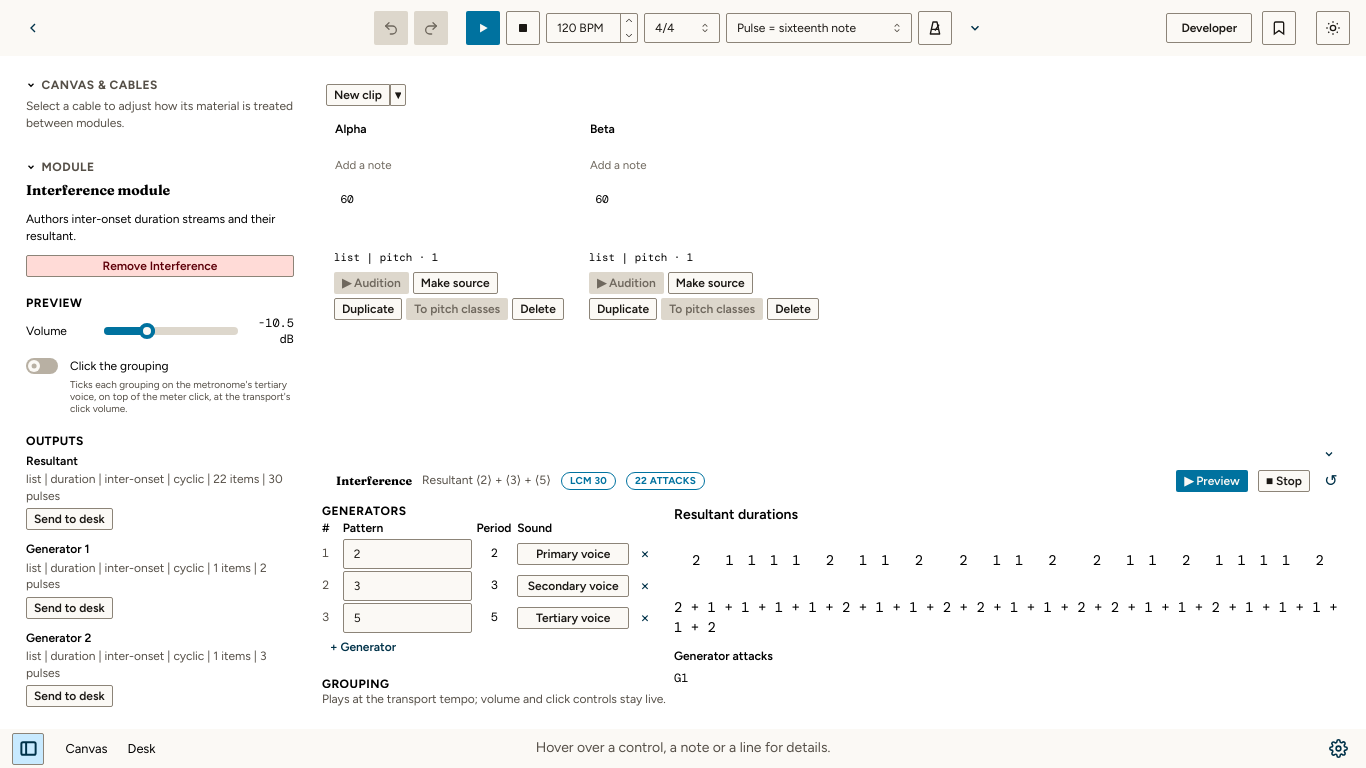
the bottom panel targets a module or a clip › shows a blank panel when the targeted clip is deleted, and promotes no module
Double-click the 1st text "list | pitch · 1" at (386, 257), box [334,250,438,264]
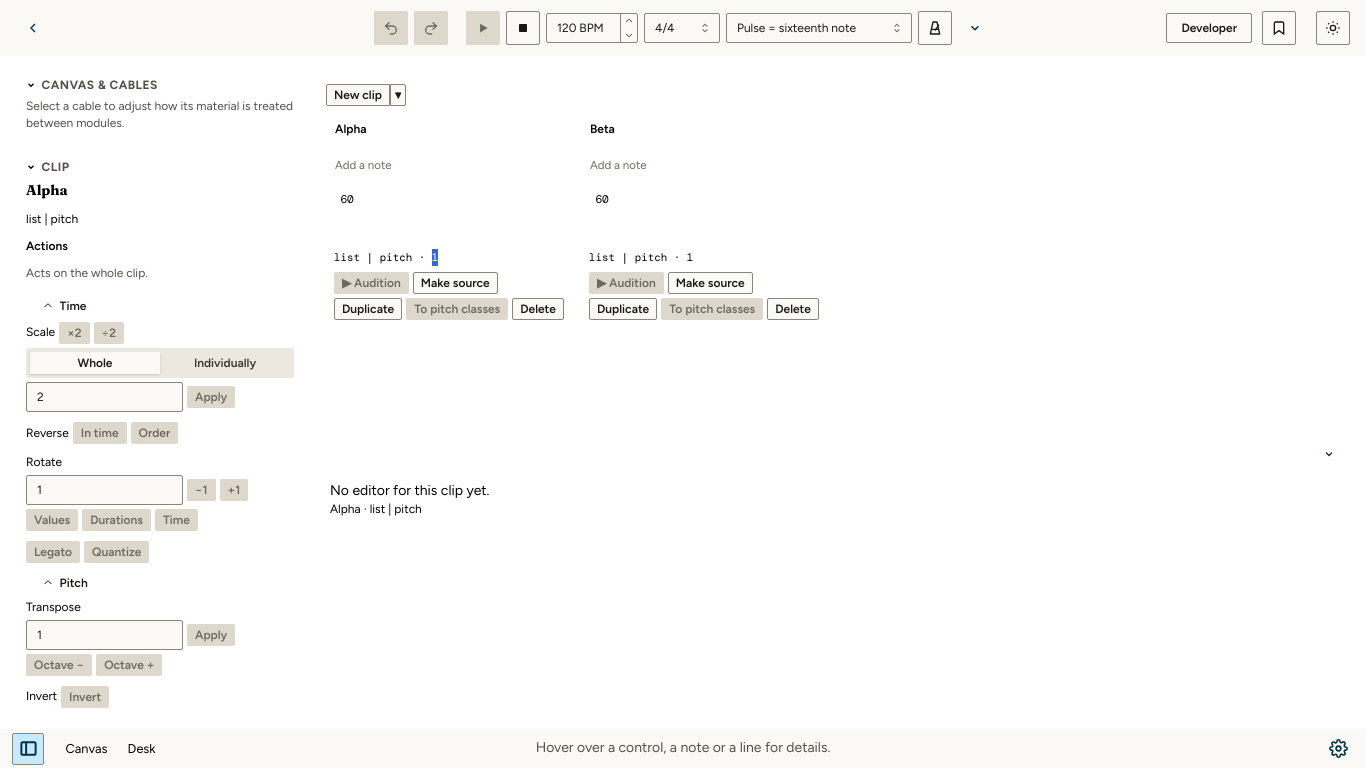
expect the message "No editor for this clip yet. Alpha · list | pitch" is shown: met, box [330,482,490,516]
Click the 1st button "Delete" at (538, 309), box [512,298,564,320]
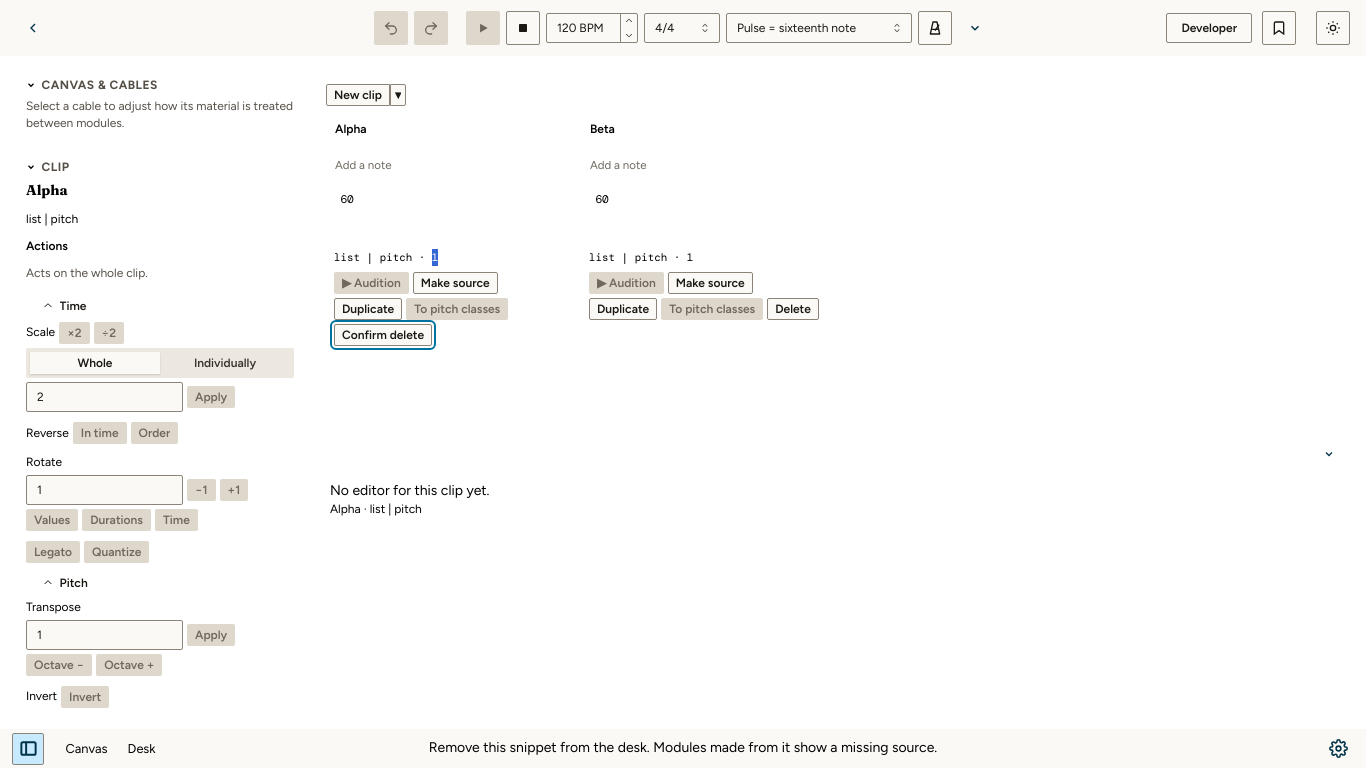
Click the button "Confirm delete" at (383, 335), box [334,324,432,346]
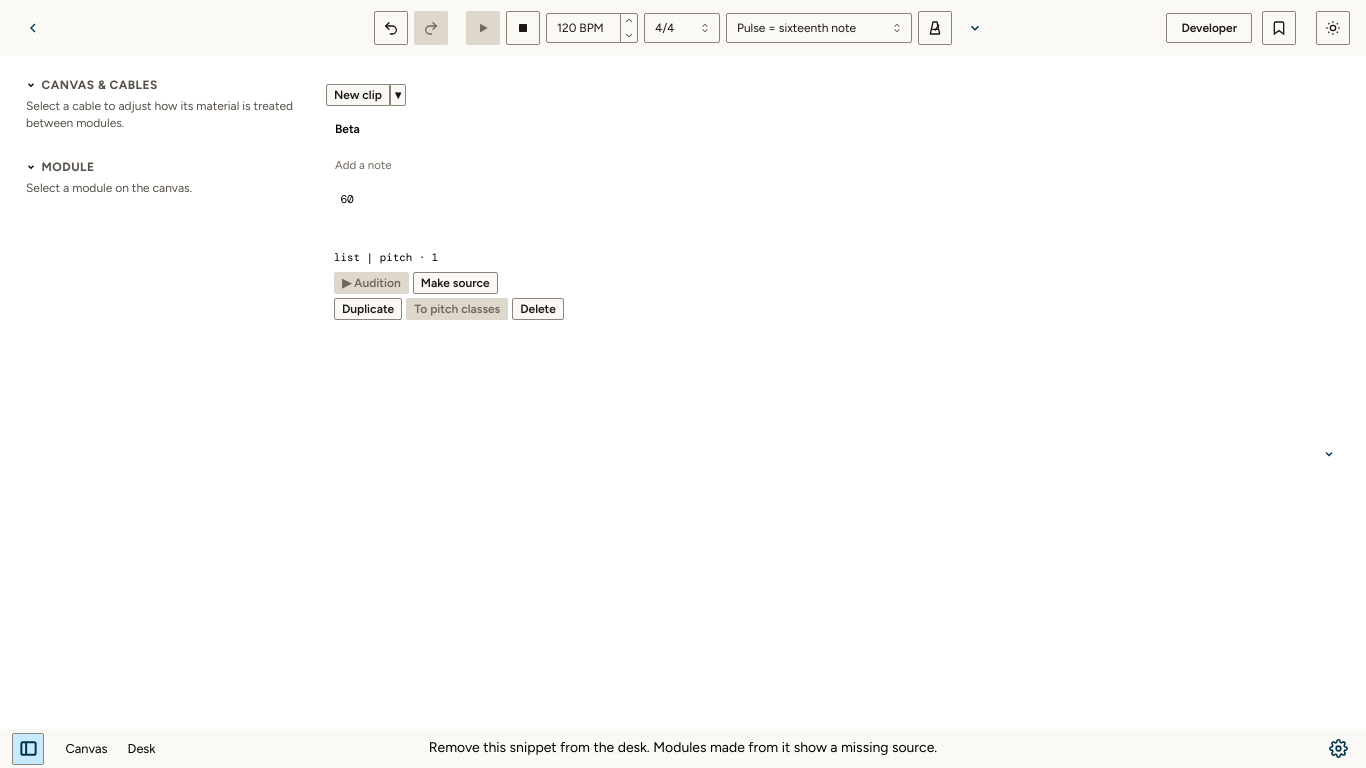
expect the message "No editor for this clip yet. Alpha · list | pitch" is gone: met
